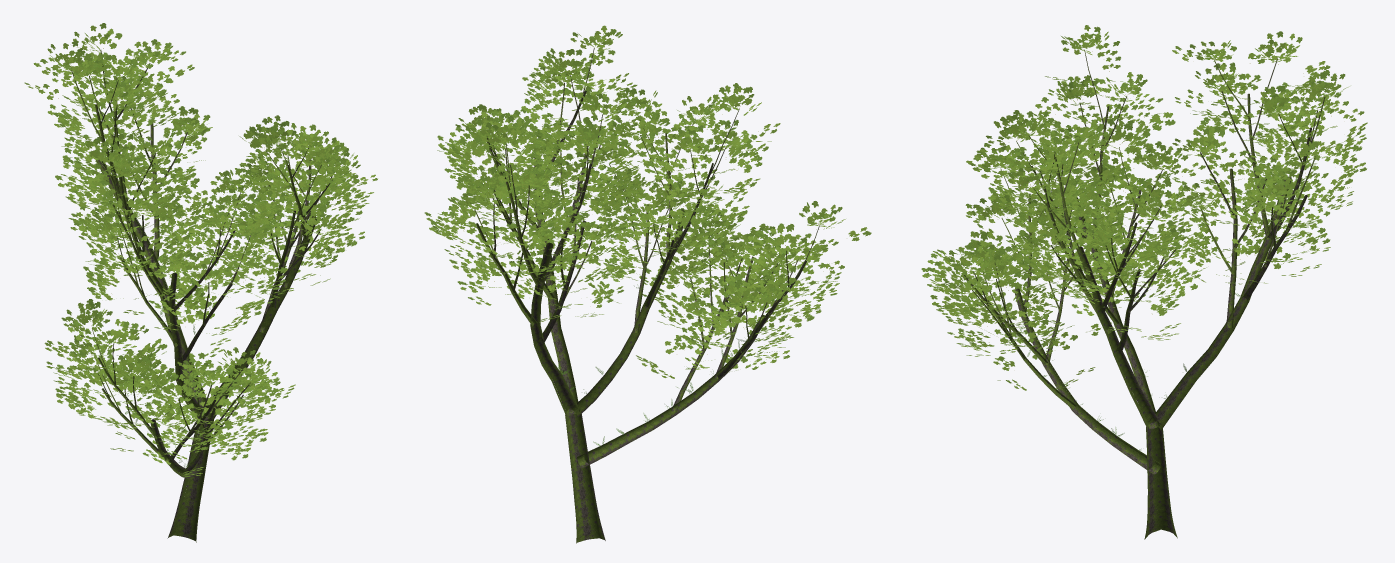
The model's file is hoh_bigleaf_maple.glb.
3 renders of one model, left to right at view 1: azimuth 30°, elevation 25°; view 2: azimuth 150°, elevation 25°; view 3: azimuth 270°, elevation 25°, orthographic.
Visible parts, largest first — view 1: hoh_bigleaf_maple; view 2: hoh_bigleaf_maple; view 3: hoh_bigleaf_maple.
Part boxes in pixels (bbox=[...]): hoh_bigleaf_maple: bbox=[24, 23, 377, 542]; hoh_bigleaf_maple: bbox=[424, 25, 871, 543]; hoh_bigleaf_maple: bbox=[921, 25, 1367, 539].
Size of the model in its own units: 13.06 by 16.52 by 14.29.
3 materials, 3 textured.
